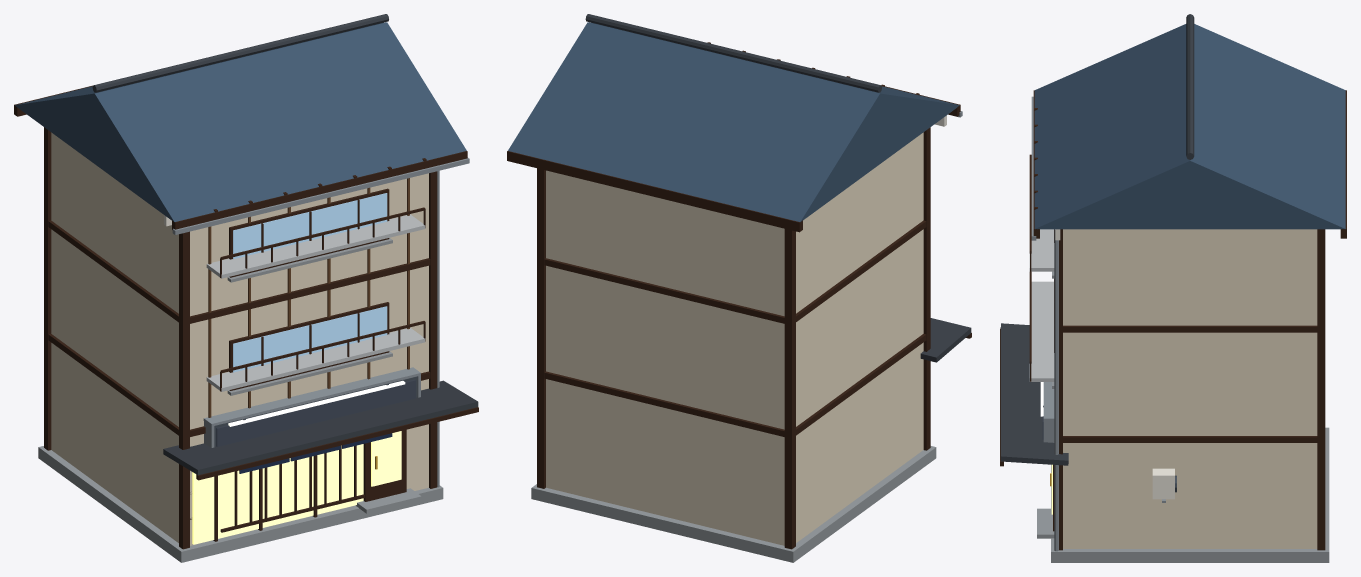
Rendered from shop_machiya_3f.glb.
The picture shows the model from 3 angles, left to right: view 1: azimuth 30°, elevation 25°; view 2: azimuth 150°, elevation 25°; view 3: azimuth 270°, elevation 25°; orthographic projection. The views are drawn at different scales.
Visible parts, largest first — view 1: body.039, roof.016, shop_glass.025, eave.016, base.040, win_glass.051, win_glass.052, sign_face.032, balcony_slab.042, balcony_slab.041, post.152, beam.085 (+21 smaller); view 2: body.039, roof.016, base.040, post.153, eave_back.016, beam.084, beam.085, post.155, ridge.016, post.152, eave.016; view 3: body.039, roof.016, eave.016, base.040, post.155, balcony_slab.041, beam.085, beam.084, downpipe.015, ridge.016, post.154, balcony_slab.042 (+4 smaller).
Boxes of the visible parts, bbox=[...] form: body.039: bbox=[51, 132, 428, 545]; roof.016: bbox=[15, 22, 466, 222]; shop_glass.025: bbox=[192, 444, 363, 544]; eave.016: bbox=[163, 380, 478, 475]; base.040: bbox=[38, 446, 443, 562]; win_glass.051: bbox=[233, 306, 387, 372]; win_glass.052: bbox=[233, 193, 387, 259]; sign_face.032: bbox=[216, 379, 415, 446]; balcony_slab.042: bbox=[206, 214, 425, 278]; balcony_slab.041: bbox=[206, 327, 425, 391]; post.152: bbox=[179, 231, 189, 549]; beam.085: bbox=[48, 220, 430, 323]; body.039: bbox=[546, 132, 923, 545]; roof.016: bbox=[508, 22, 959, 221]; base.040: bbox=[531, 446, 936, 562]; post.153: bbox=[784, 229, 795, 549]; eave_back.016: bbox=[507, 151, 802, 232]; beam.084: bbox=[544, 333, 926, 436]; beam.085: bbox=[544, 220, 926, 323]; post.155: bbox=[537, 168, 545, 488]; ridge.016: bbox=[585, 14, 881, 92]; post.152: bbox=[923, 127, 930, 450]; eave.016: bbox=[920, 318, 971, 362]; body.039: bbox=[1063, 229, 1317, 548]; roof.016: bbox=[1034, 24, 1345, 229]; eave.016: bbox=[1000, 323, 1068, 465]; base.040: bbox=[1051, 427, 1329, 562]; post.155: bbox=[1317, 229, 1325, 550]; balcony_slab.041: bbox=[1029, 281, 1054, 381]; beam.085: bbox=[1063, 325, 1317, 332]; beam.084: bbox=[1063, 436, 1317, 442]; downpipe.015: bbox=[1054, 229, 1058, 551]; ridge.016: bbox=[1186, 14, 1194, 159]; post.154: bbox=[1059, 229, 1062, 550]; balcony_slab.042: bbox=[1029, 229, 1054, 271].
Bounding box in the file's own units: 8.3 × 11.55 × 8.7.
